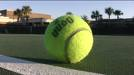tennis ball: (44, 14, 94, 64)
